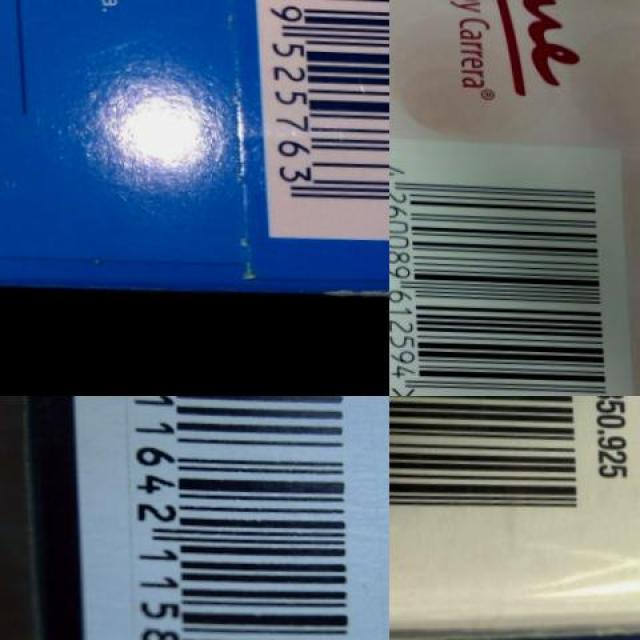Barcode: (66, 396, 390, 640), (389, 143, 619, 396), (250, 0, 390, 240), (389, 396, 588, 537)
